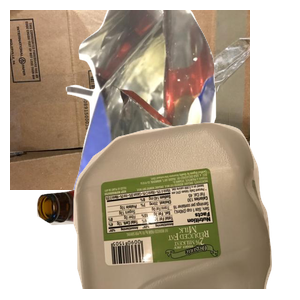cardboard: (10, 10, 250, 190)
glass: (34, 170, 223, 300)
plastic: (71, 120, 300, 300)
trash: (63, 10, 300, 190)
